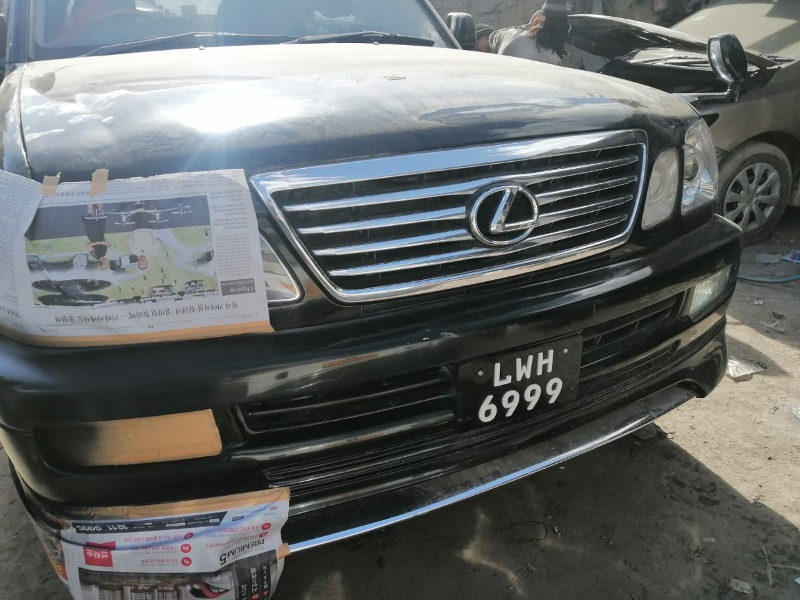License Plate: (450, 334, 584, 434)
